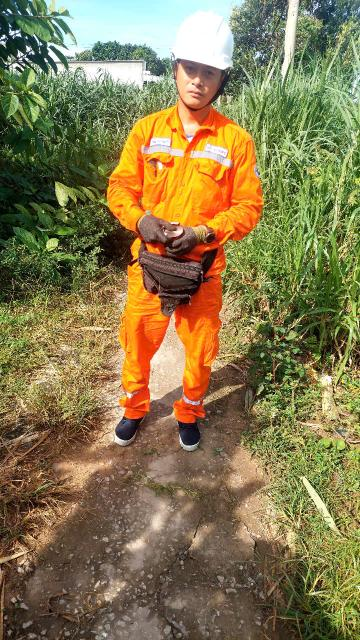gloves: (165, 213, 219, 254), (128, 208, 172, 247)
helmet: (154, 13, 249, 78)
shoes: (102, 402, 150, 452), (173, 407, 202, 451)
